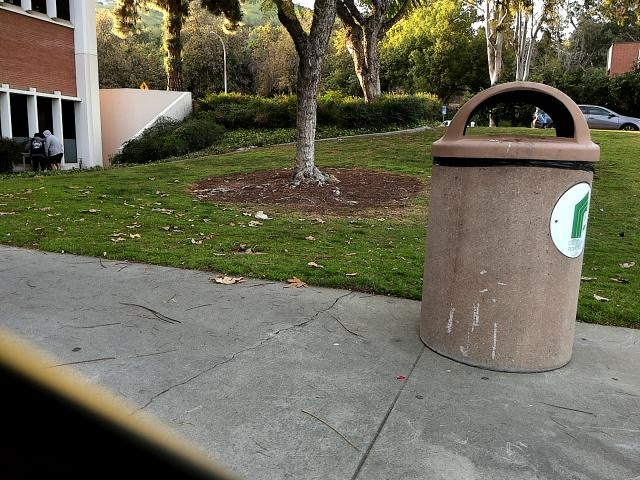trashcan: (420, 78, 597, 384)
